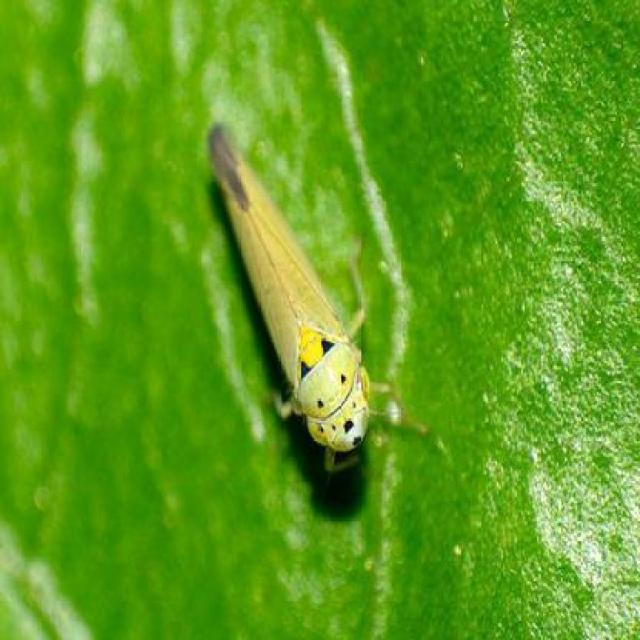green-leafhopper: (206, 125, 400, 466)
